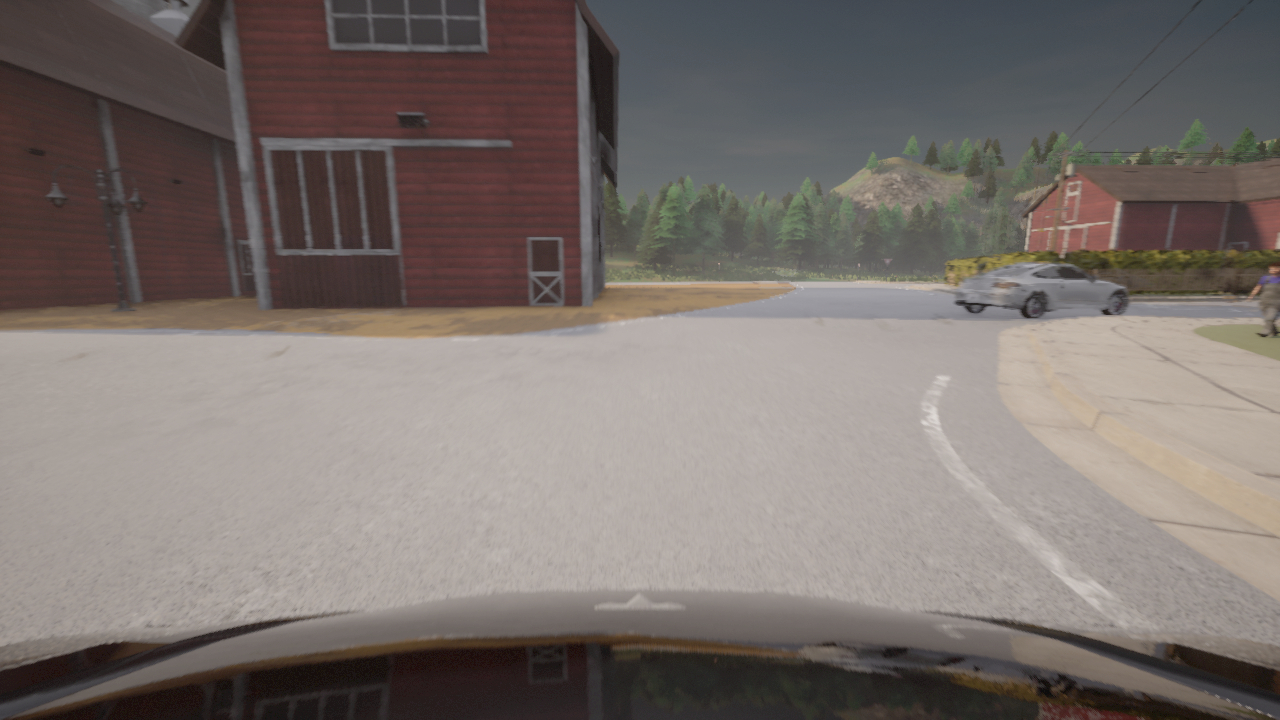cyclist: (0, 588, 1279, 719), (955, 262, 1129, 318)
pedestrian: (1247, 261, 1279, 337)
